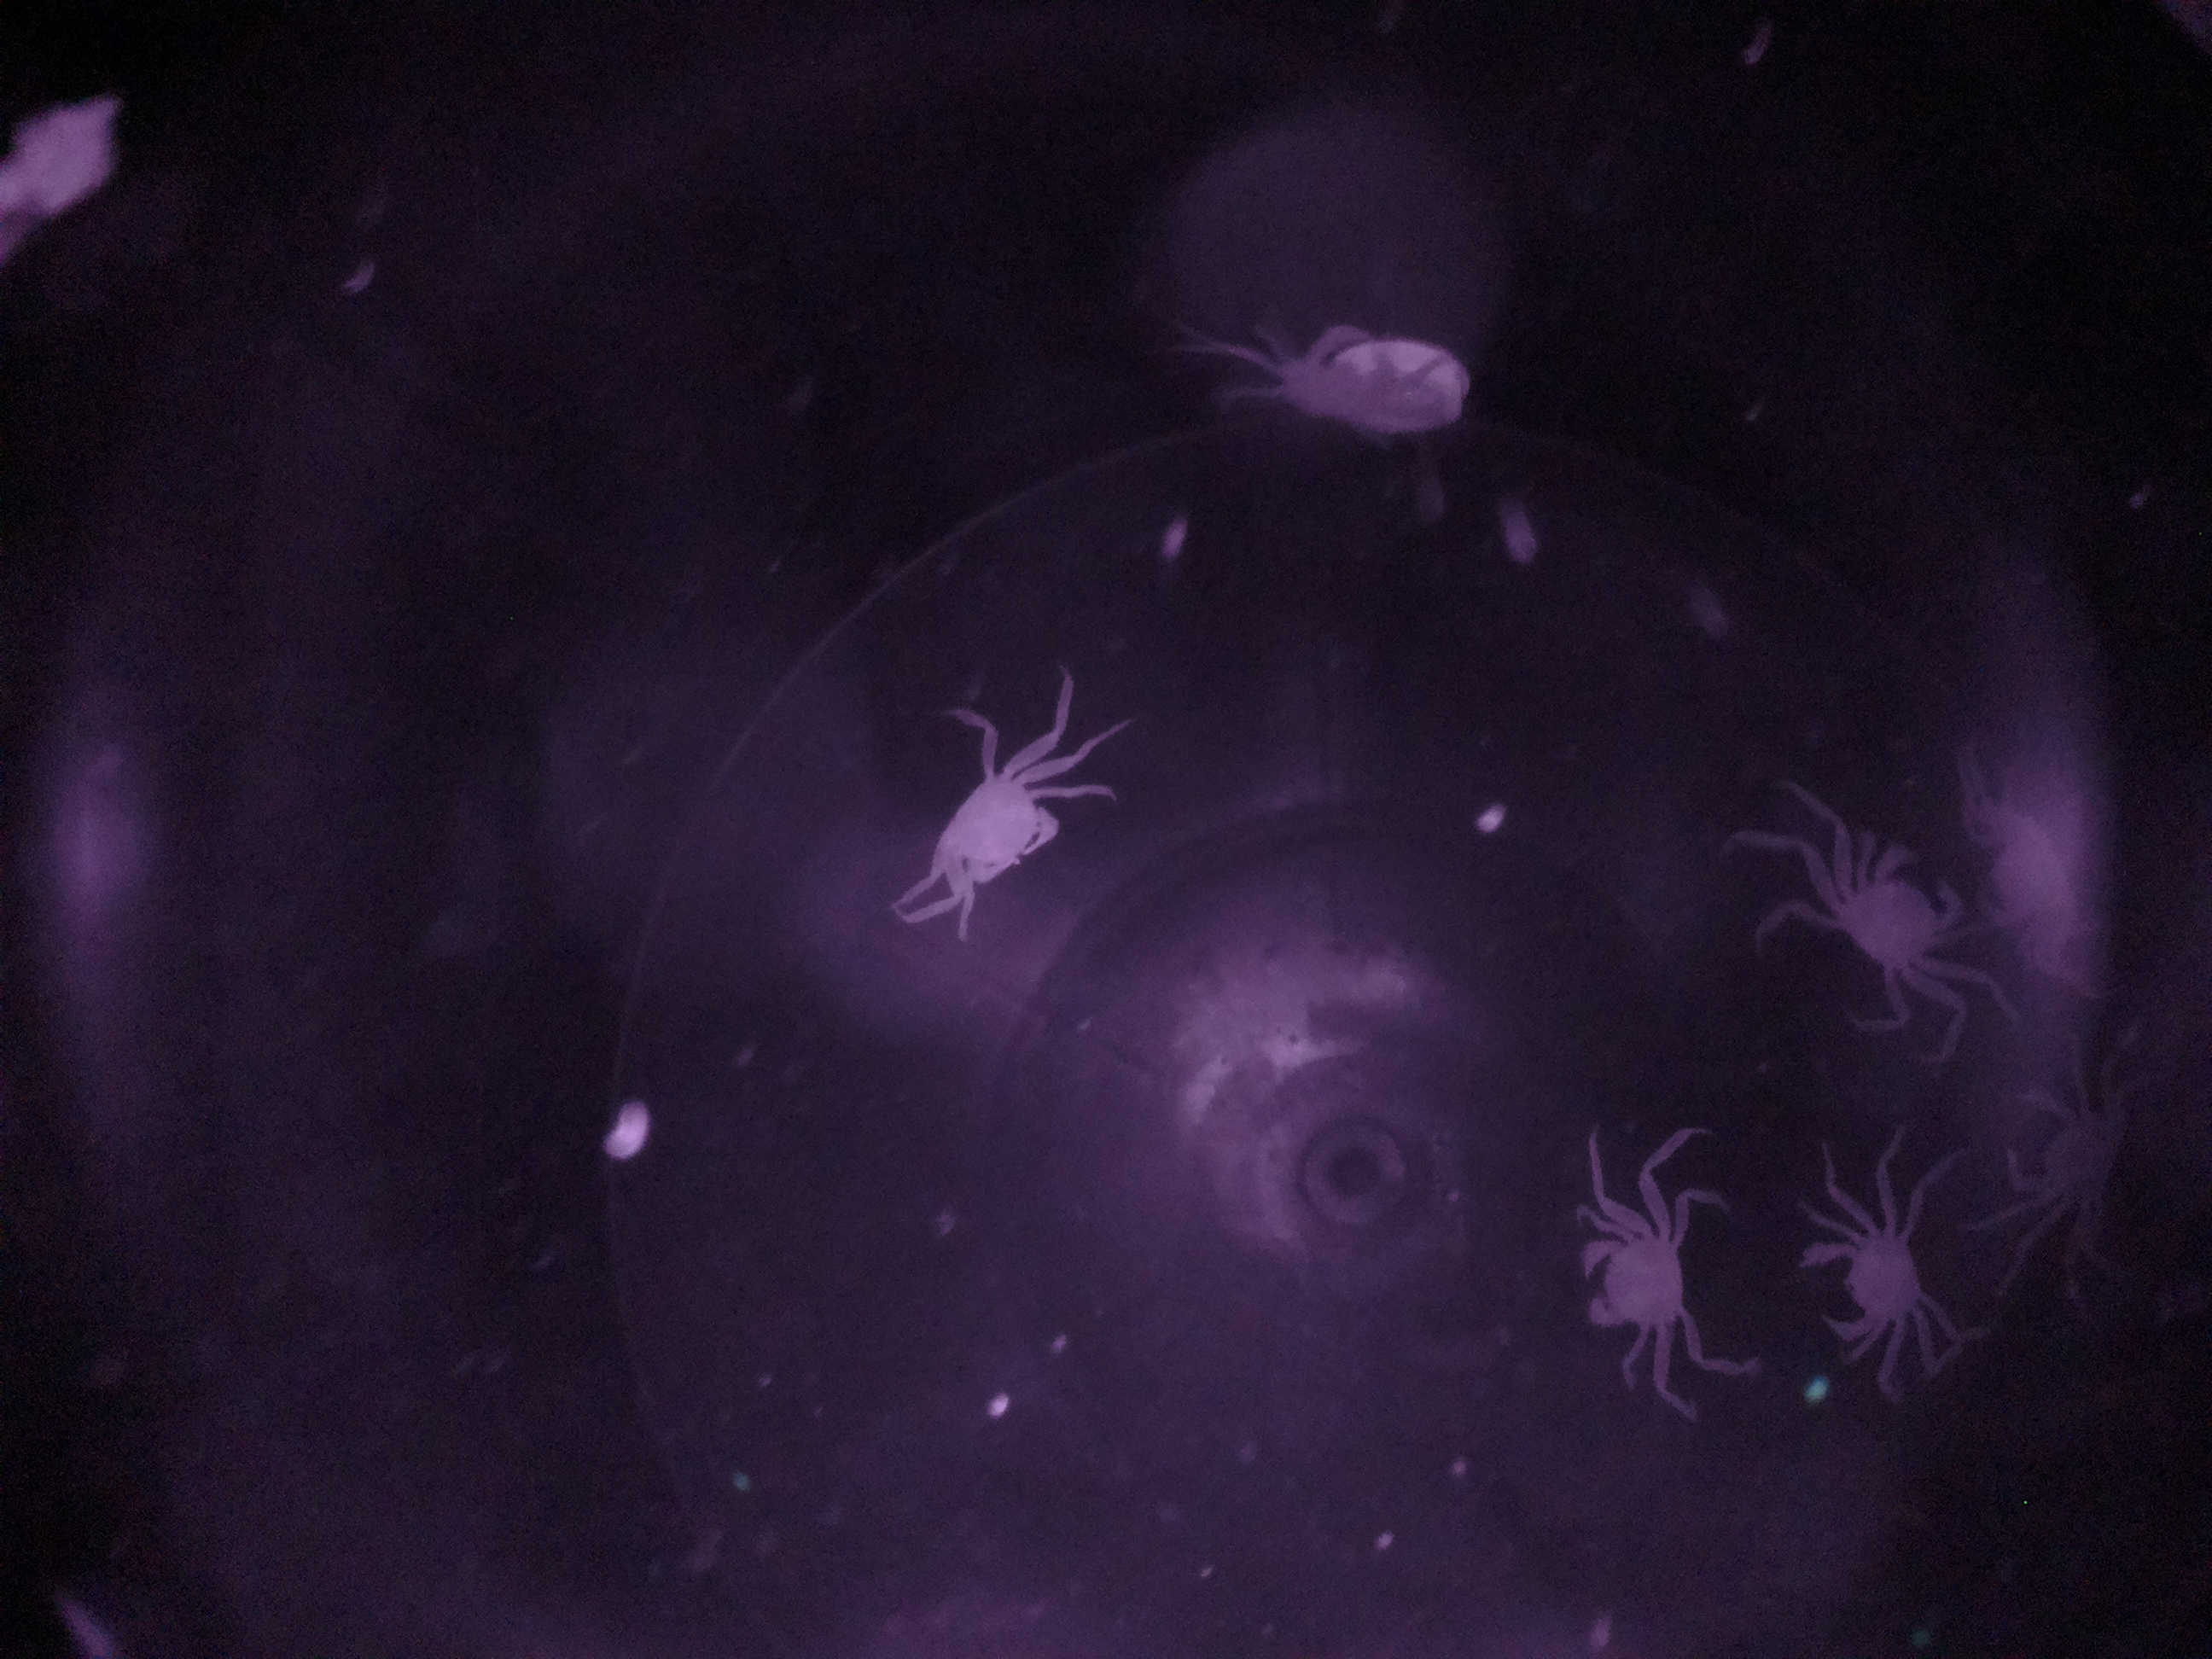Crab: (897, 728, 1083, 918), (1808, 826, 1977, 1006), (1794, 1201, 1951, 1392), (1569, 1197, 1702, 1347)
